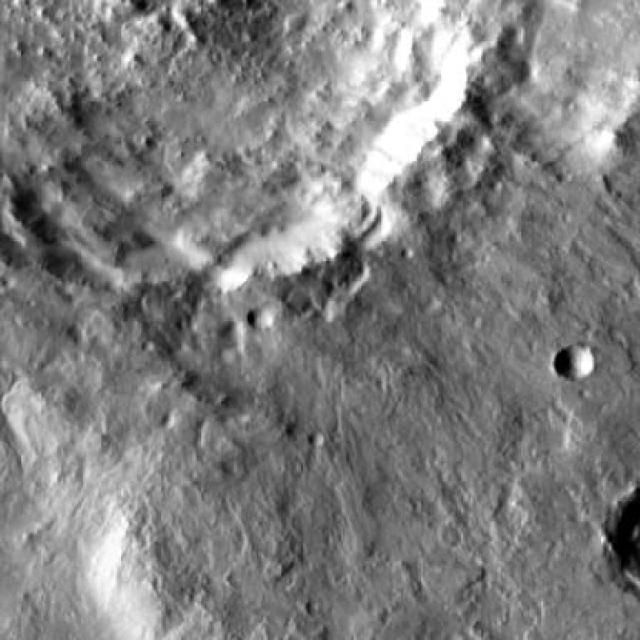crater: (0, 0, 515, 287), (565, 349, 606, 386), (264, 311, 288, 331)
